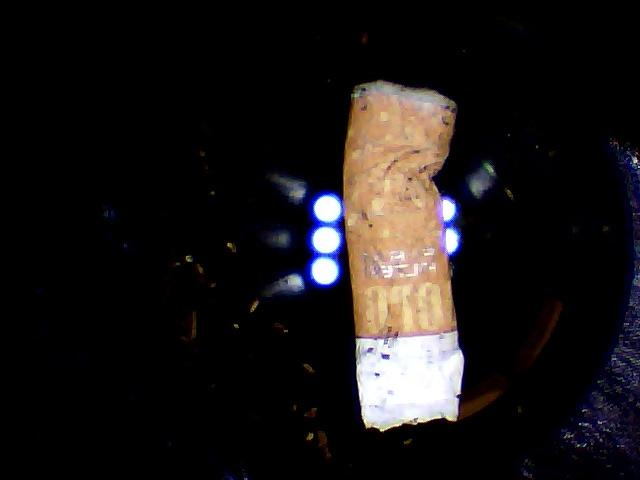megot: (324, 75, 466, 439)
